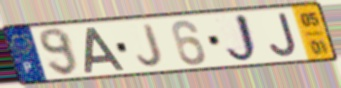6: (170, 18, 208, 67)
9: (38, 26, 81, 78)
A: (83, 26, 127, 75)
J: (224, 12, 263, 64), (267, 11, 300, 59), (135, 22, 165, 69)
